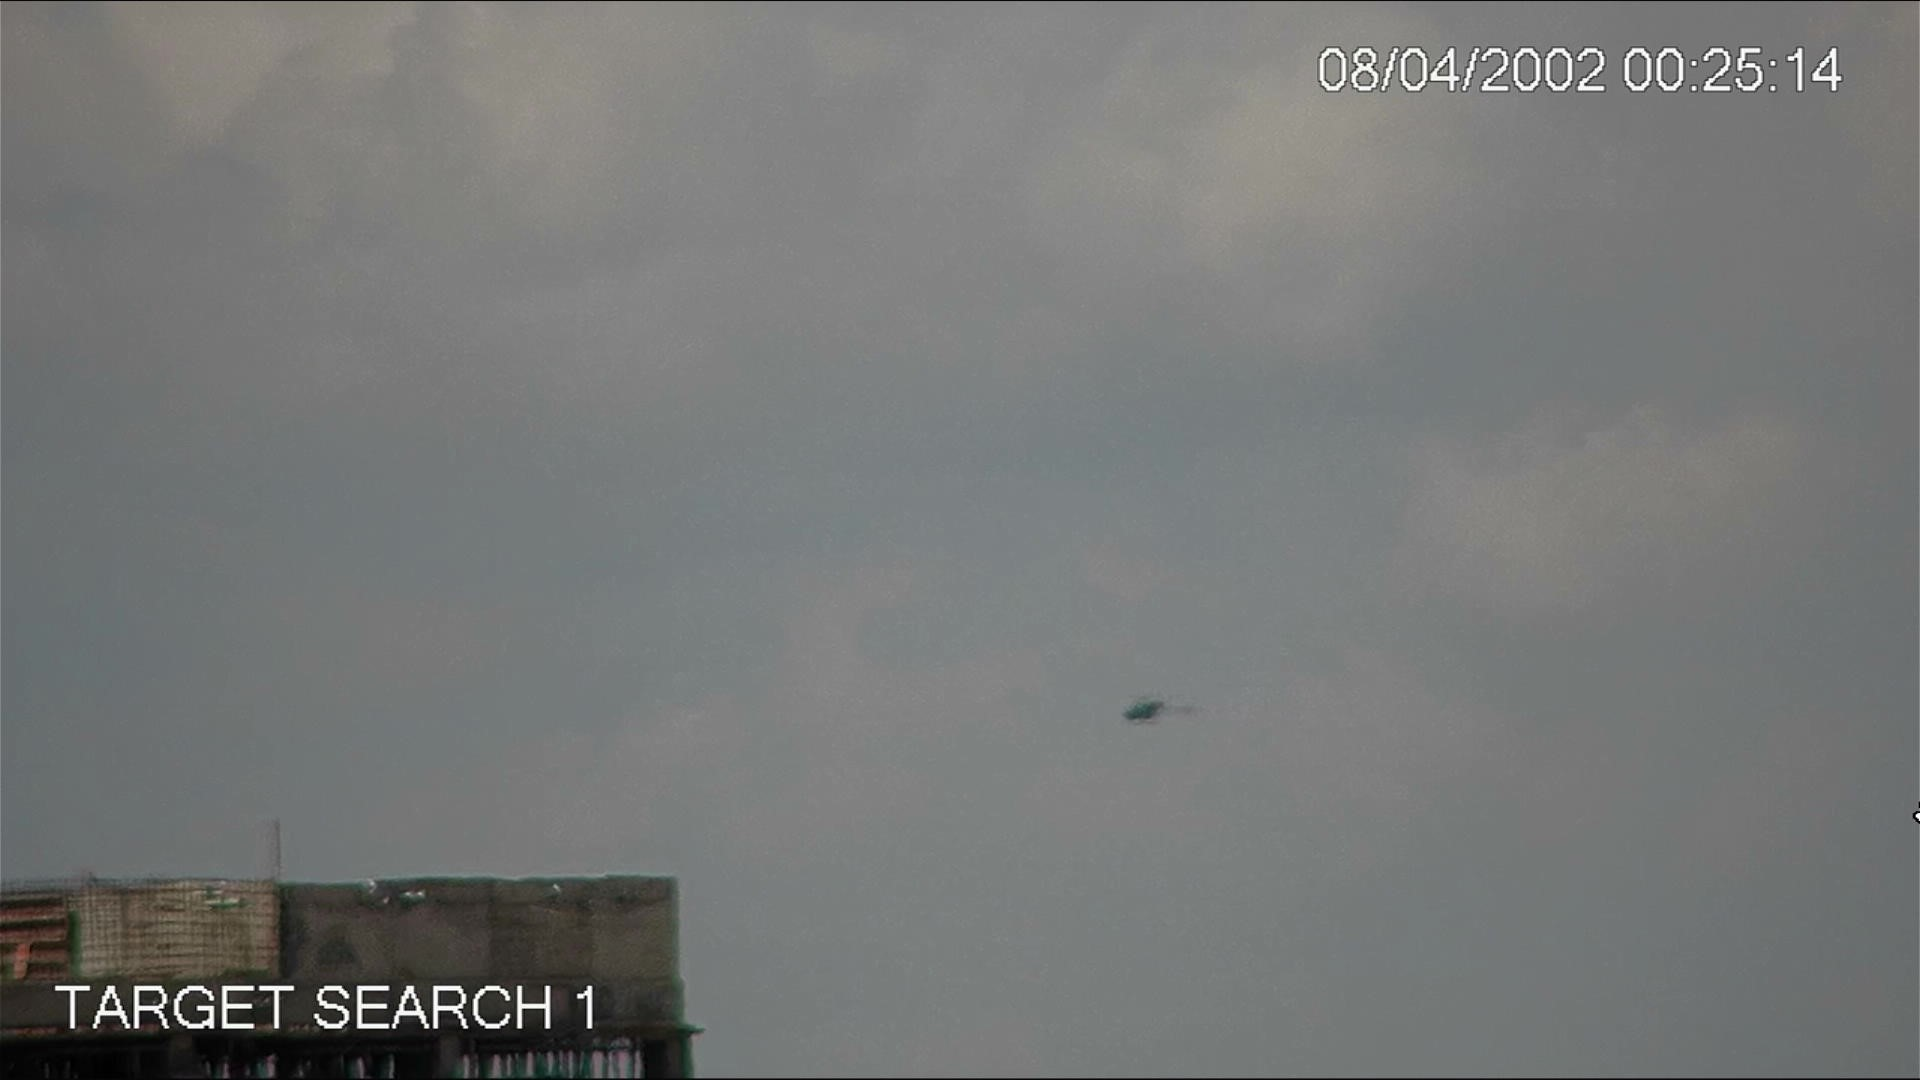SU_30: (1120, 692, 1200, 728)
